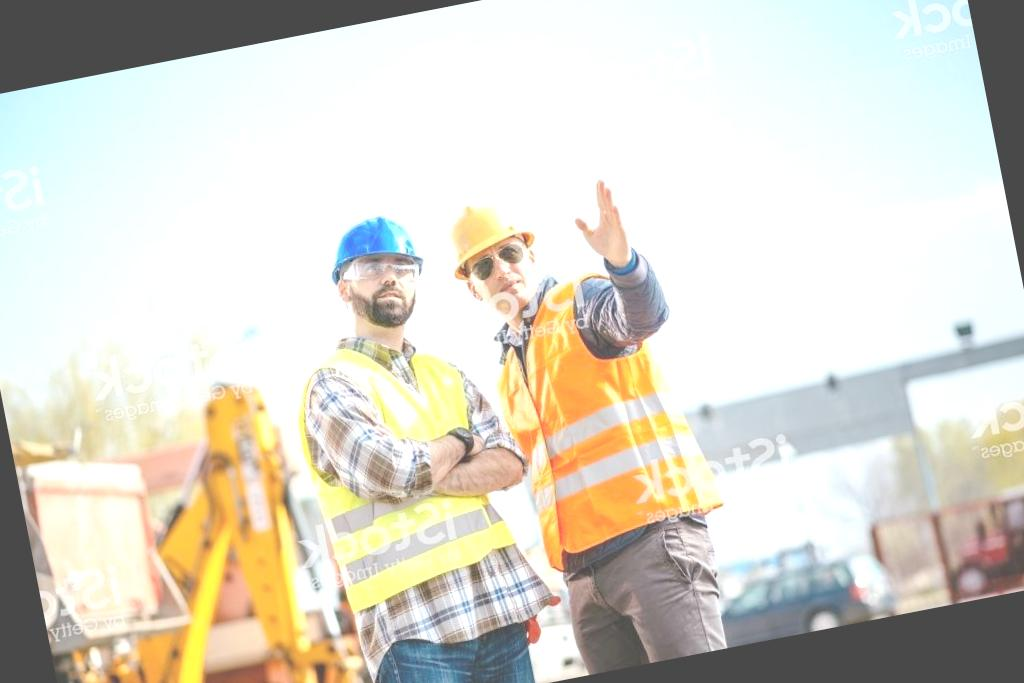helmet: (319, 206, 422, 278), (446, 191, 529, 270)
person: (454, 172, 730, 683), (260, 212, 519, 683)
